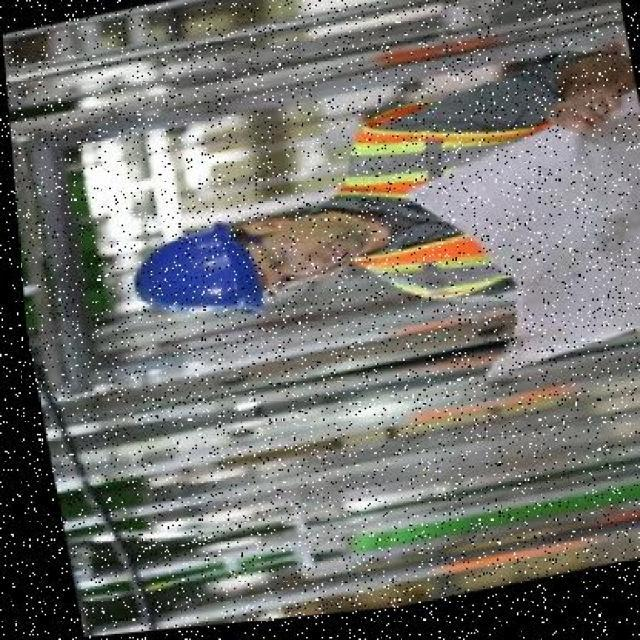helmet: (115, 211, 265, 341)
vest: (323, 87, 605, 324)
